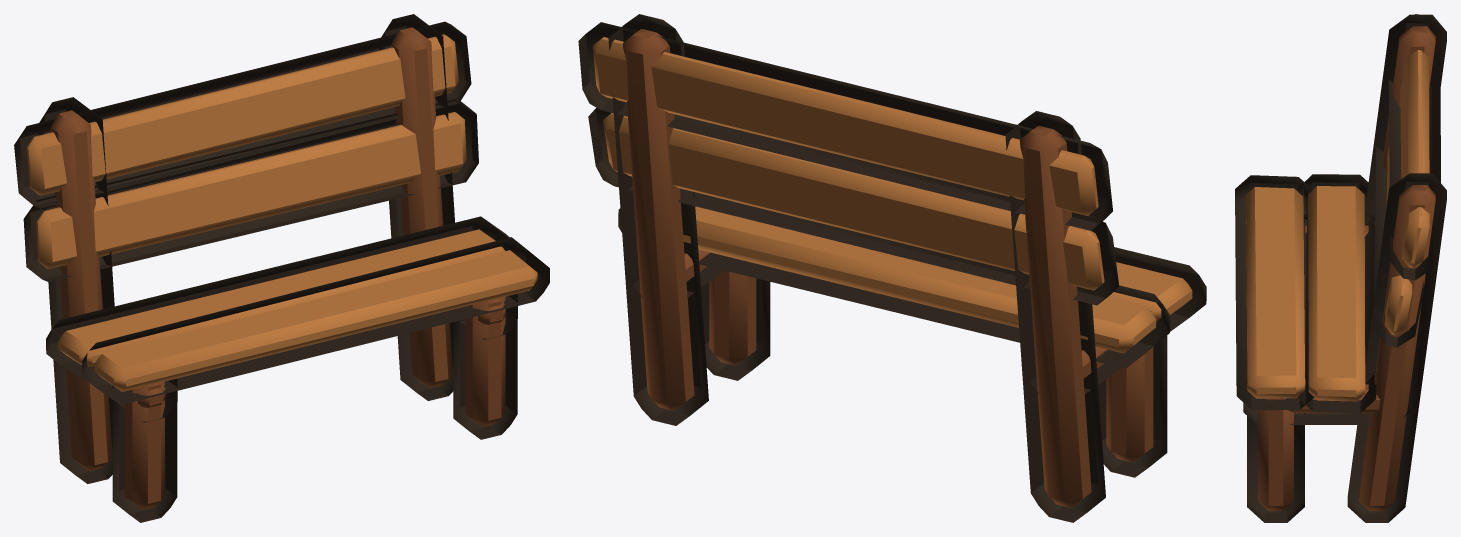
Rendered from bench.glb.
3 views of the same model, side by side, from view 1: azimuth 30°, elevation 25°; view 2: azimuth 150°, elevation 25°; view 3: azimuth 270°, elevation 25° (orthographic). The views are drawn at different scales.
Parts seen in each view (by area): view 1: bench; view 2: bench; view 3: bench.
Boxes of the visible parts, x1,y1,x2,y2 form: bench: (14, 14, 549, 522); bench: (578, 14, 1206, 522); bench: (1235, 14, 1446, 522).
Size of the model in its own units: 1.38 by 1.04 by 0.5874.
